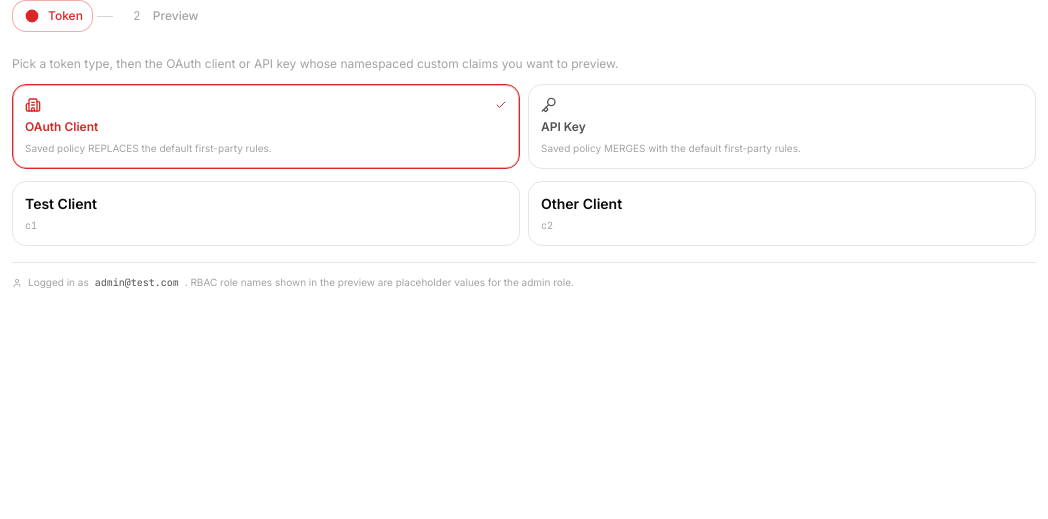
it: TokenPreviewFlow - client selection › moves to the preview step when a client is selected
Click the button with test id "preview-client-c1".
click(61, 204)  # box [12, 181, 520, 246]
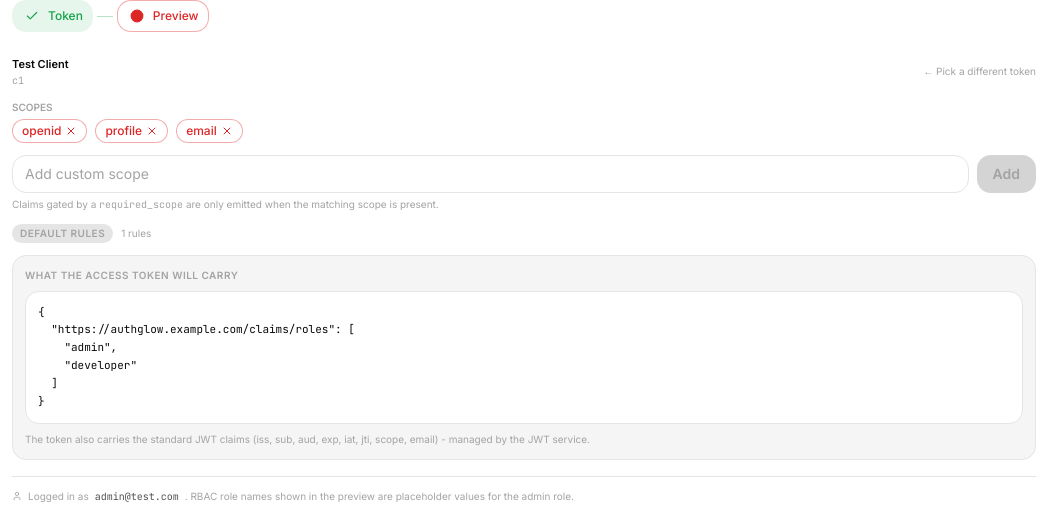
Expected: the element with test id "preview-payload-panel" is shown, [12, 254, 1036, 460]
